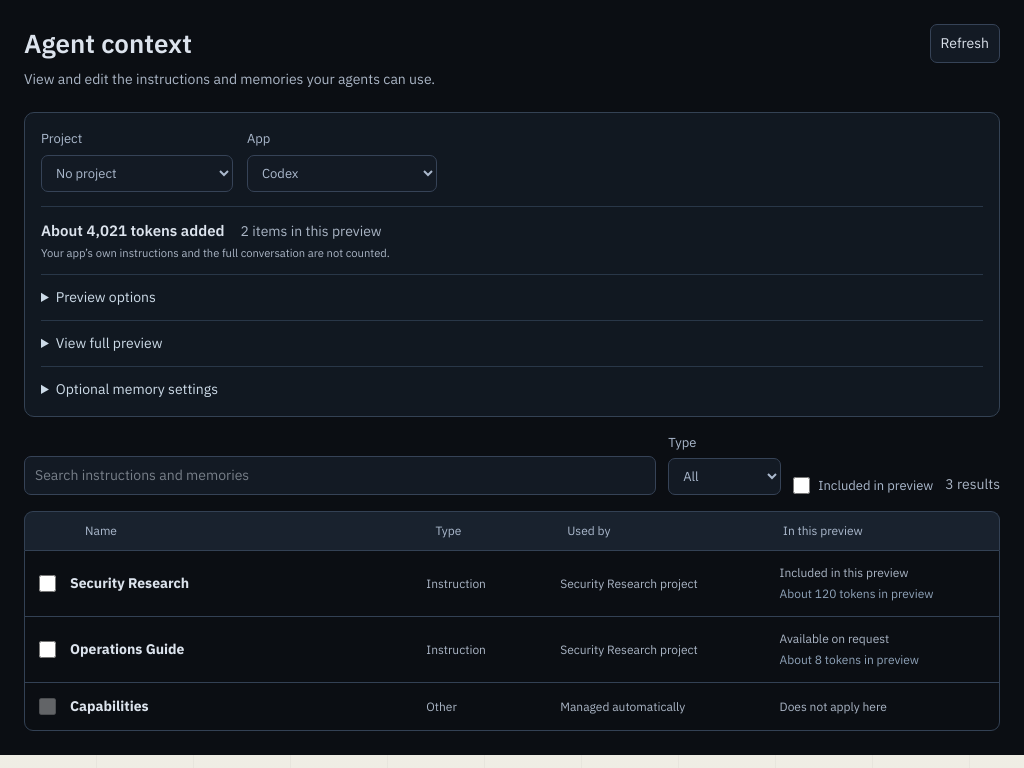
Test: Agent context › separates preview totals from search results and counts only delivered row text
Expected: the text "About 4,021 tokens added" is shown, [41, 220, 225, 242]
Expected: the text "2 items in this preview" is shown, [241, 220, 382, 242]
Click the checkbox labelled "Included in preview": (802, 485) [793, 477, 810, 494]
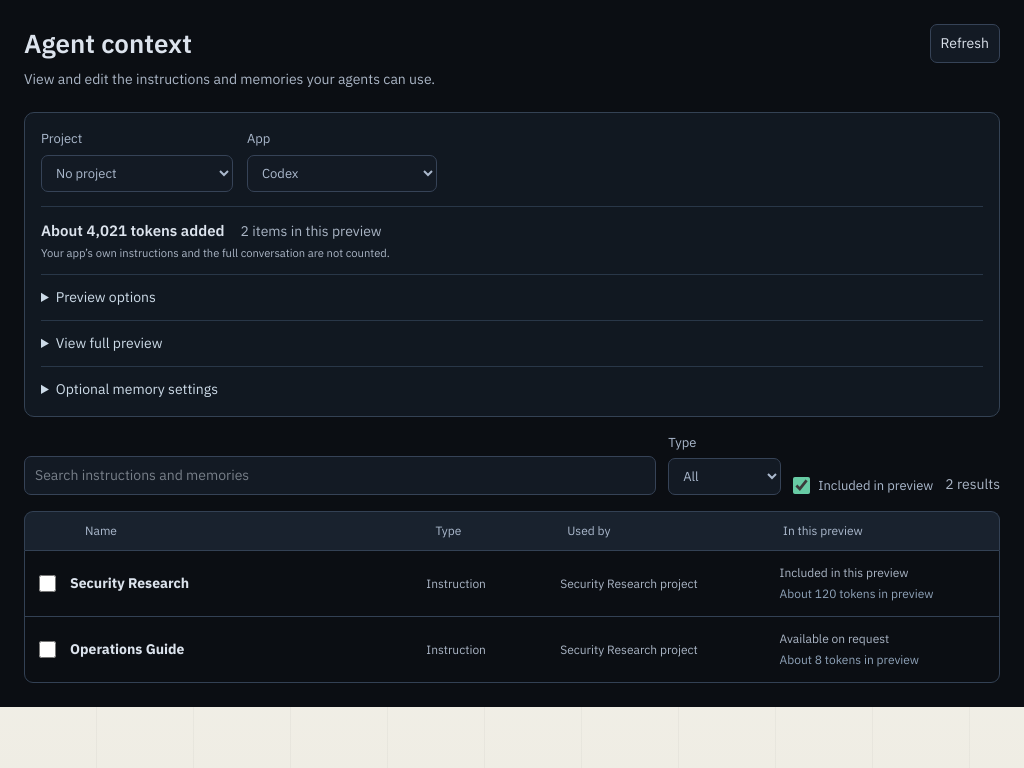
Result: the text "2 results" is shown at [945, 474, 1000, 495]
Result: the button "Capabilities" is gone
Click the checkbox labelled "Included in preview": (802, 485) [793, 477, 810, 494]
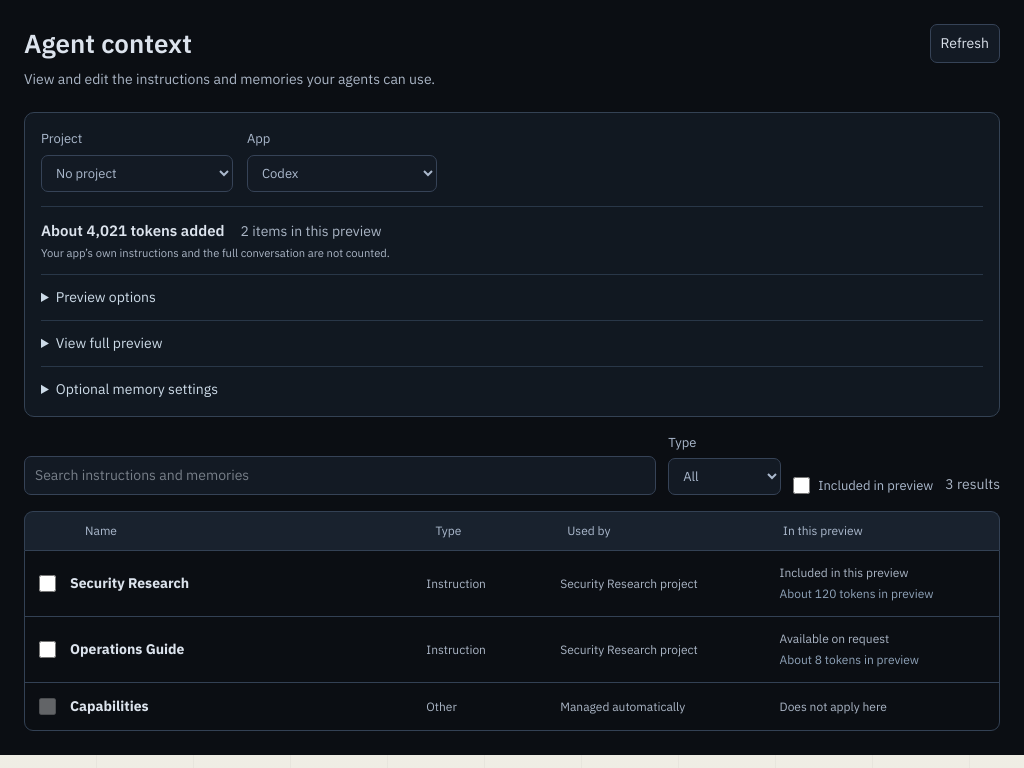
In the search field labelled "Search instructions and memories": (340, 476) [24, 456, 656, 495], type "Operations Guide"
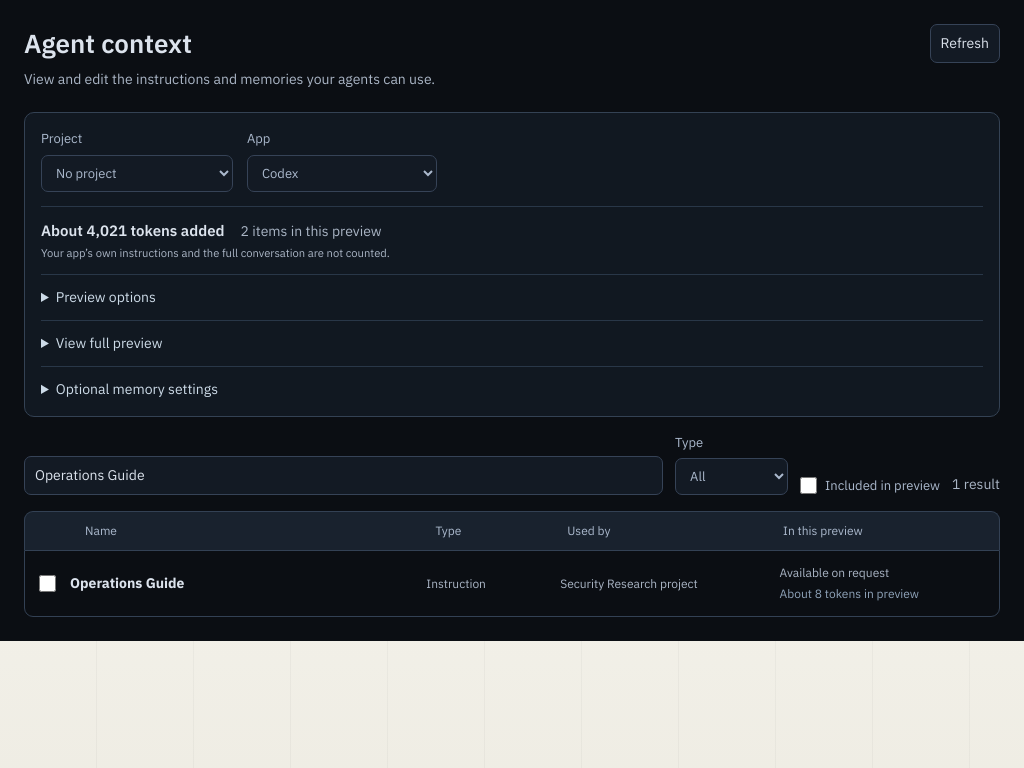
Expected: the text "2 items in this preview" is shown, [241, 220, 382, 242]
Result: the text "1 result" is shown at [952, 474, 1000, 495]
